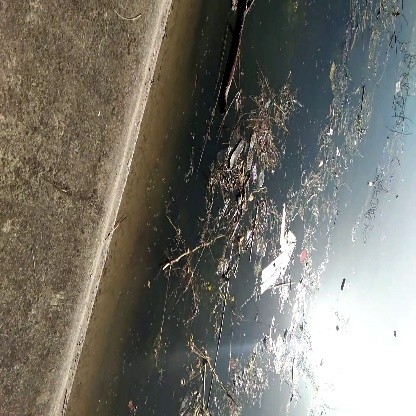branch: (223, 5, 250, 104)
plastic-bag: (254, 209, 300, 291)
